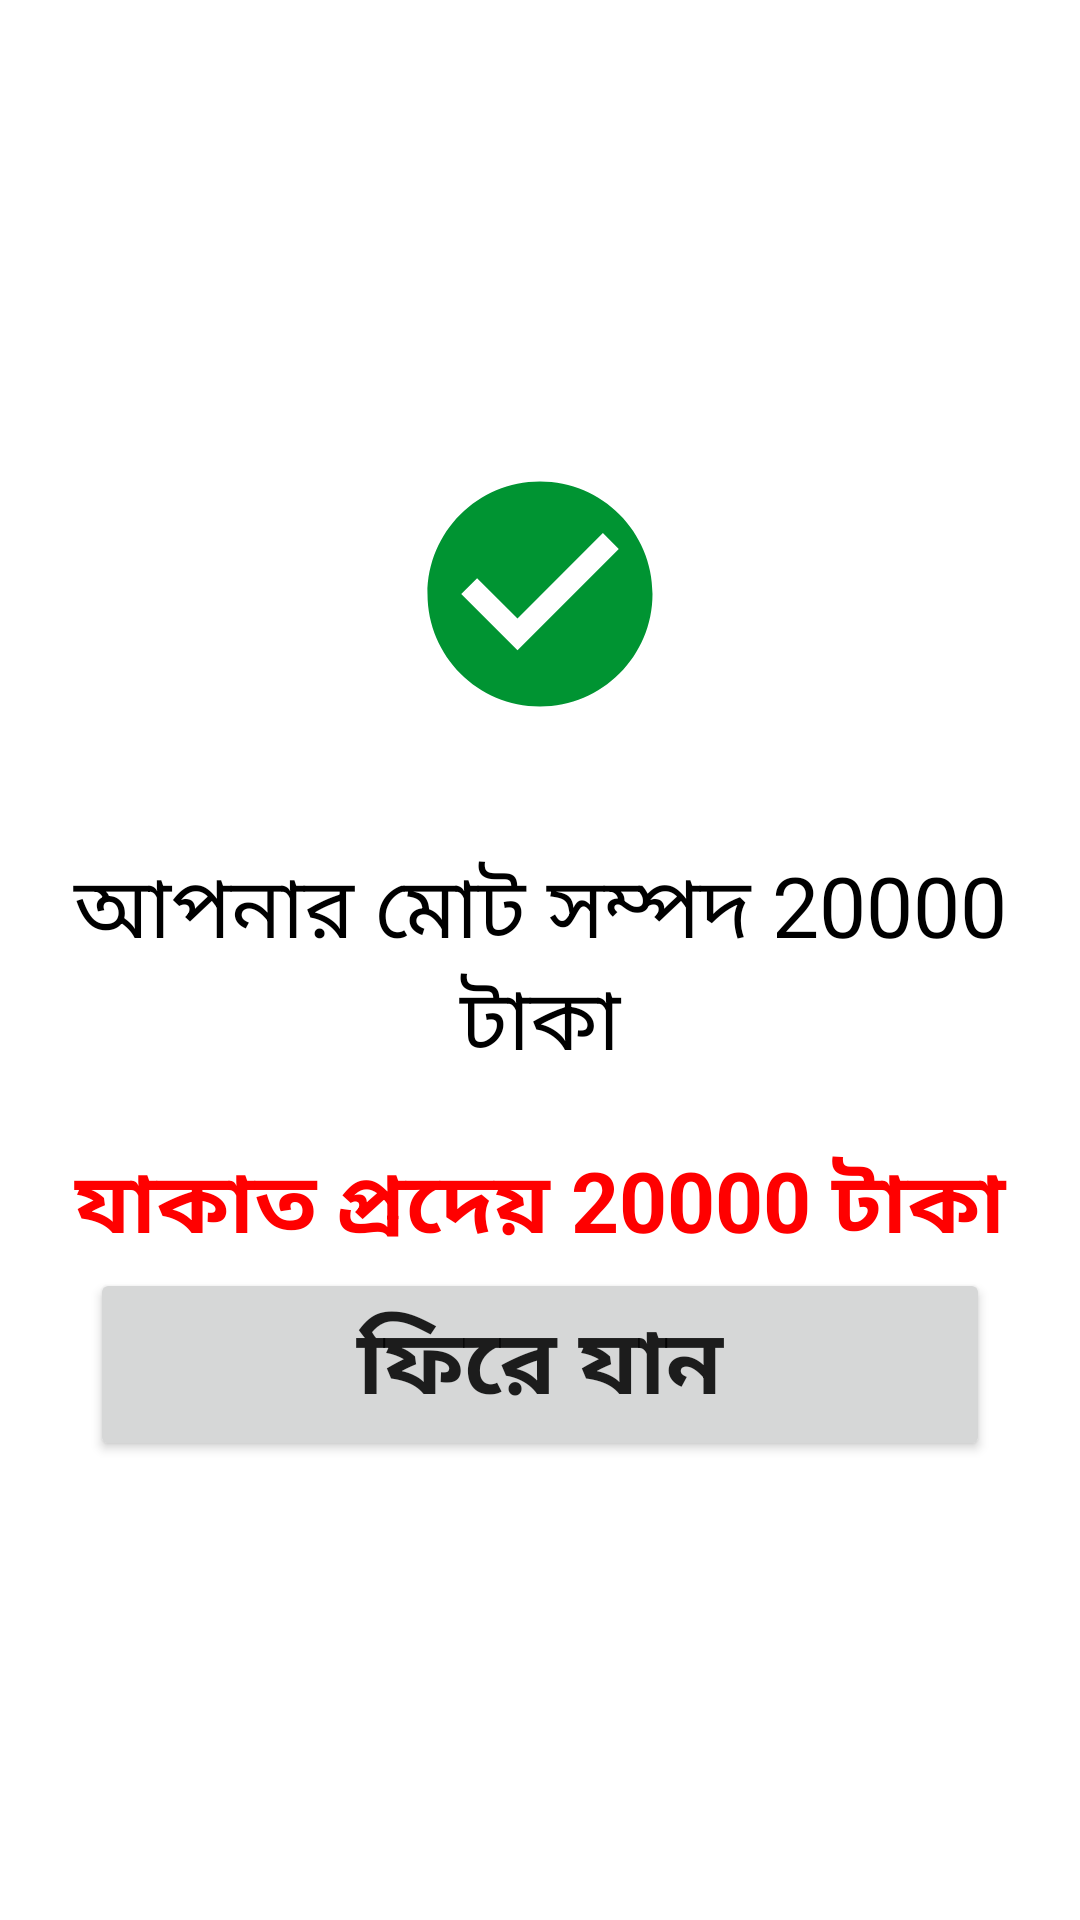

Point at icon controls on the screen. Image size 1080 x 1920, points as (x=x, y=y).
check circle: (x=540, y=594)
